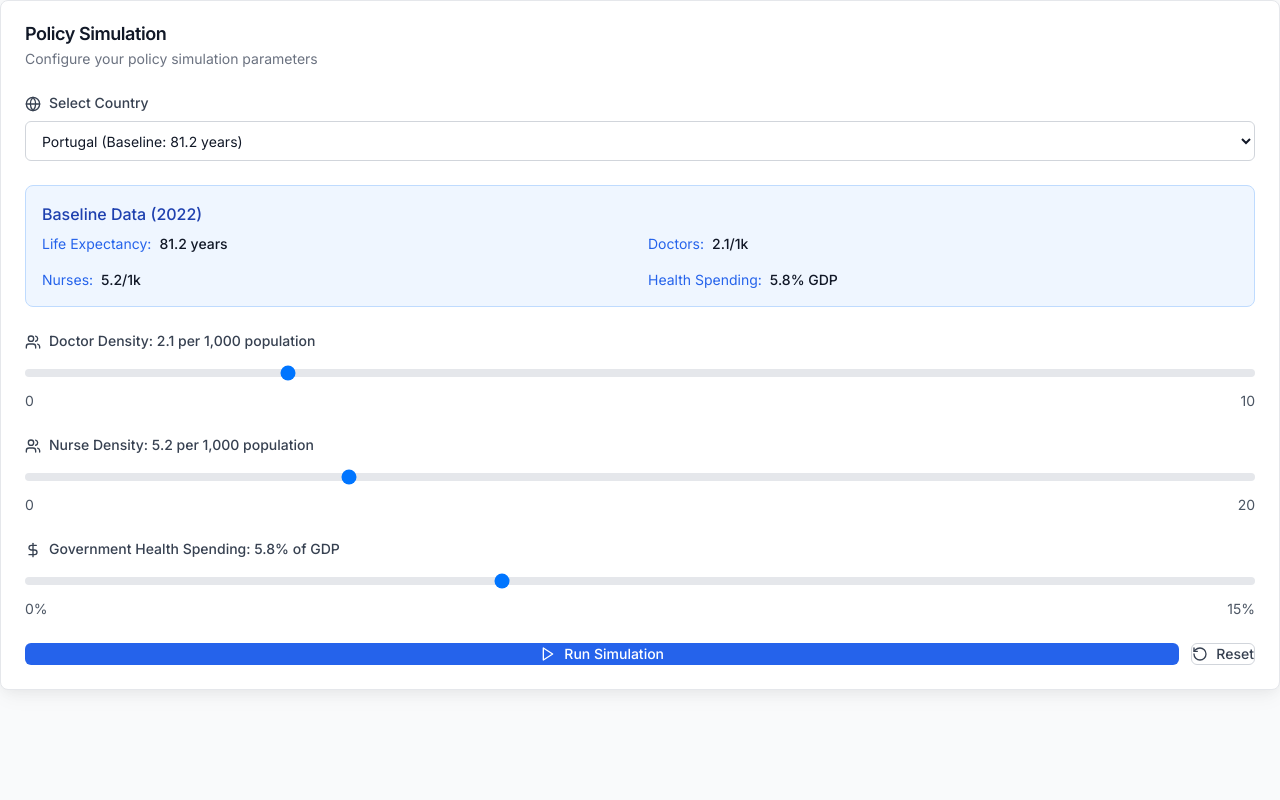
Test: SimulationCardNew › handles country selection change
Select "Spain (Baseline: 83.1 years)" in the dropdown showing "Portugal (Baseline: 81.2 years)" at [640, 141], box [25,121,1255,161]
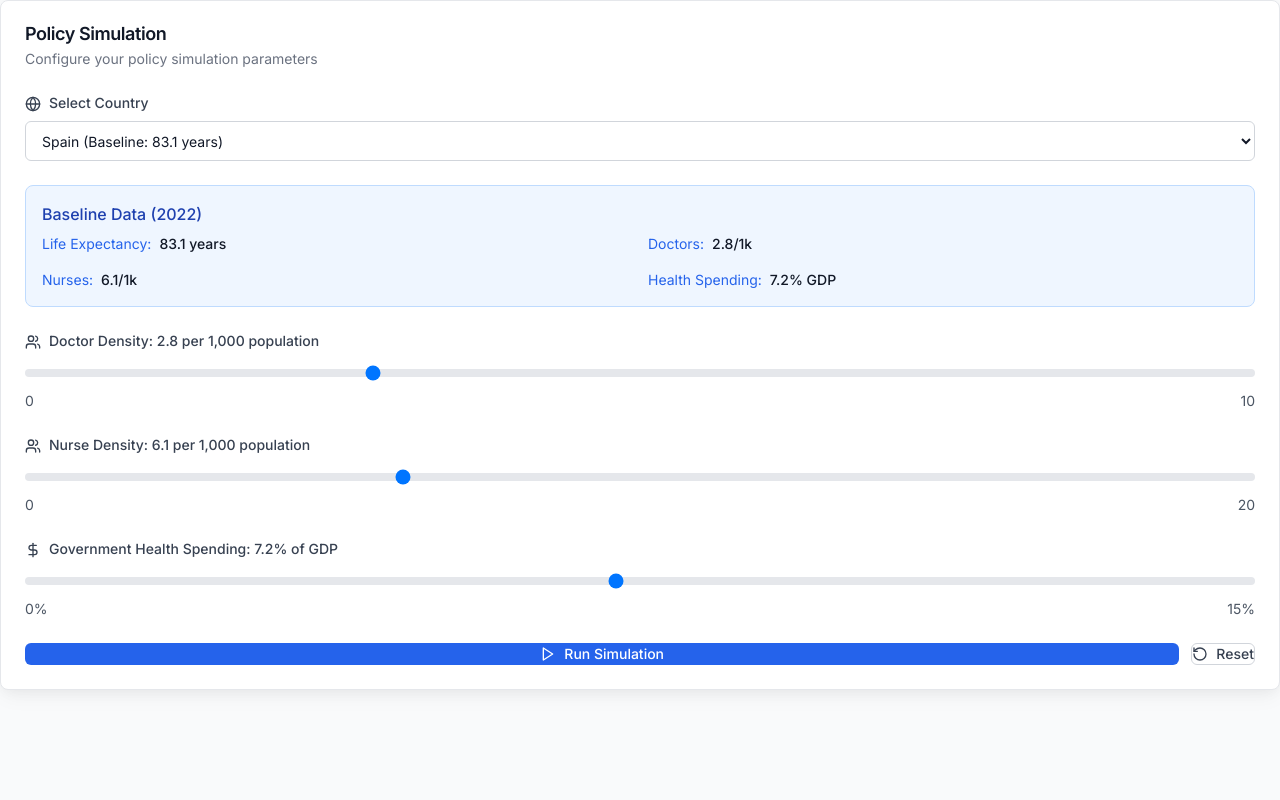
expect the text "83.1 years" is shown: met, box [159,235,226,252]
expect the text "2.8/1k" is shown: met, box [712,235,752,252]
expect the text "6.1/1k" is shown: met, box [101,271,137,288]
